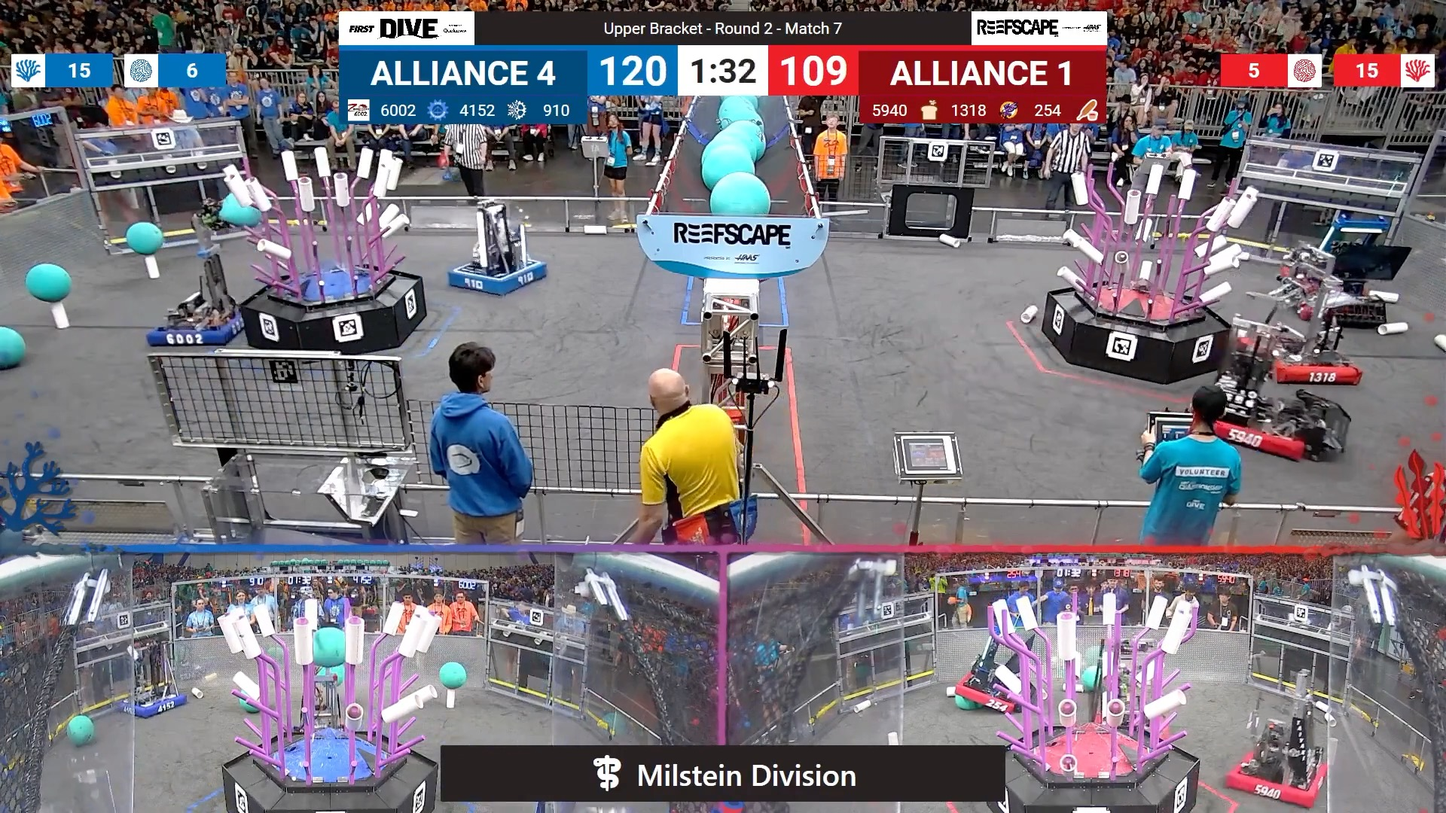bumpers: (1193, 393, 1353, 471), (1235, 335, 1368, 393), (1218, 745, 1336, 809), (144, 298, 245, 350), (438, 256, 551, 299), (953, 669, 1039, 716), (114, 690, 194, 725)
